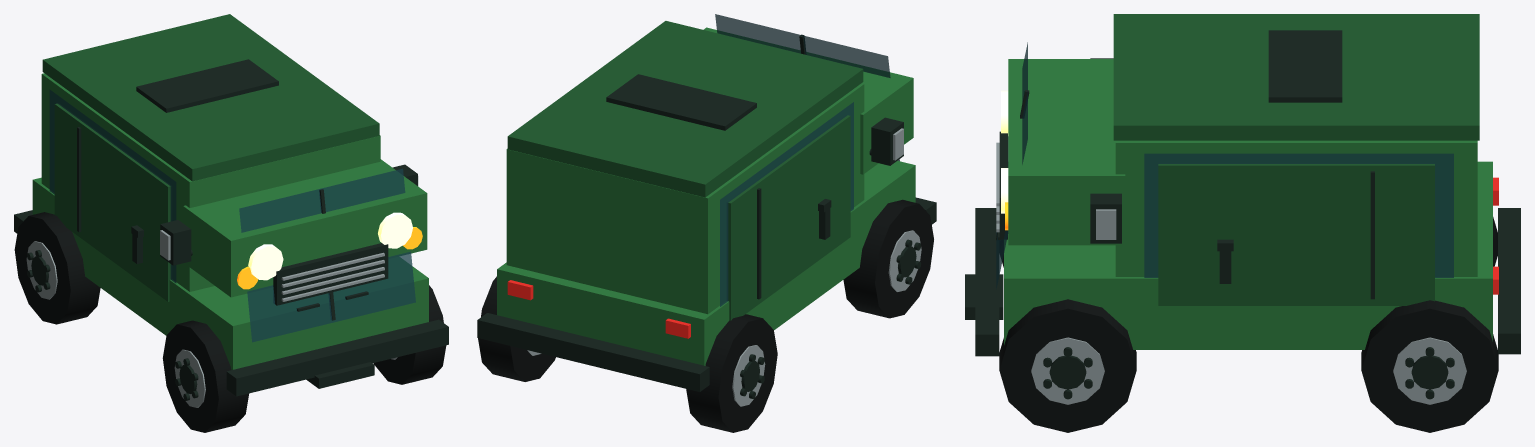
The model's file is asset.glb.
The picture shows the model from 3 angles, left to right: view 1: azimuth 30°, elevation 25°; view 2: azimuth 150°, elevation 25°; view 3: azimuth 270°, elevation 25°; orthographic projection. The views are drawn at different scales.
Parts seen in each view (by area): view 1: Roof, LowerBody, Hood, CargoDoorPanel_-1, Tire (×3), Cabin, FrontWindshield, FrontBumper, RoofHatch, FrontGrille, SideWindow_-1, Hub (×2) (+9 smaller); view 2: Roof, Cabin, LowerBody, CargoDoorPanel_-1, Tire (×3), RearBumper, RoofHatch, Hood, FrontWindshield, SideWindow_-1, Hub (×2), MirrorHousing_-1 (+1 smaller); view 3: Roof, CargoDoorPanel_1, LowerBody, Tire (×2), Hood, Cabin, SideWindow_1, RoofHatch, Hub (×2), FrontBumper, RearBumper, HubCap (×2) (+6 smaller).
Part boxes in pixels (<box>): Roof: <box>42,14,379,181</box>; LowerBody: <box>32,177,428,369</box>; Hood: <box>183,159,427,297</box>; CargoDoorPanel_-1: <box>54,103,171,301</box>; Tire (×3): <box>14,212,446,432</box>; Cabin: <box>41,73,380,291</box>; FrontWindshield: <box>239,168,415,342</box>; FrontBumper: <box>226,319,448,396</box>; RoofHatch: <box>136,59,278,112</box>; FrontGrille: <box>273,243,388,305</box>; SideWindow_-1: <box>49,89,176,283</box>; Hub (×2): <box>26,241,205,407</box>; Roof: <box>507,21,863,197</box>; Cabin: <box>506,83,864,314</box>; LowerBody: <box>497,160,915,365</box>; CargoDoorPanel_-1: <box>727,115,850,320</box>; Tire (×3): <box>478,199,933,432</box>; RearBumper: <box>477,313,709,391</box>; RoofHatch: <box>606,74,756,130</box>; Hood: <box>703,27,913,174</box>; FrontWindshield: <box>715,14,899,161</box>; SideWindow_-1: <box>720,102,853,306</box>; Hub (×2): <box>732,230,921,406</box>; MirrorHousing_-1: <box>871,117,903,165</box>; Roof: <box>1113,14,1479,140</box>; CargoDoorPanel_1: <box>1158,163,1434,305</box>; LowerBody: <box>1004,161,1492,349</box>; Tire (×2): <box>999,299,1498,432</box>; Hood: <box>1008,59,1125,245</box>; Cabin: <box>1115,140,1477,276</box>; SideWindow_1: <box>1144,153,1453,277</box>; RoofHatch: <box>1268,30,1342,102</box>; Hub (×2): <box>1031,337,1466,404</box>; FrontBumper: <box>975,208,999,356</box>; RearBumper: <box>1498,208,1520,354</box>; HubCap (×2): <box>1049,355,1448,389</box>.
Size of the model in its own units: 2.78 by 2.62 by 4.38.
